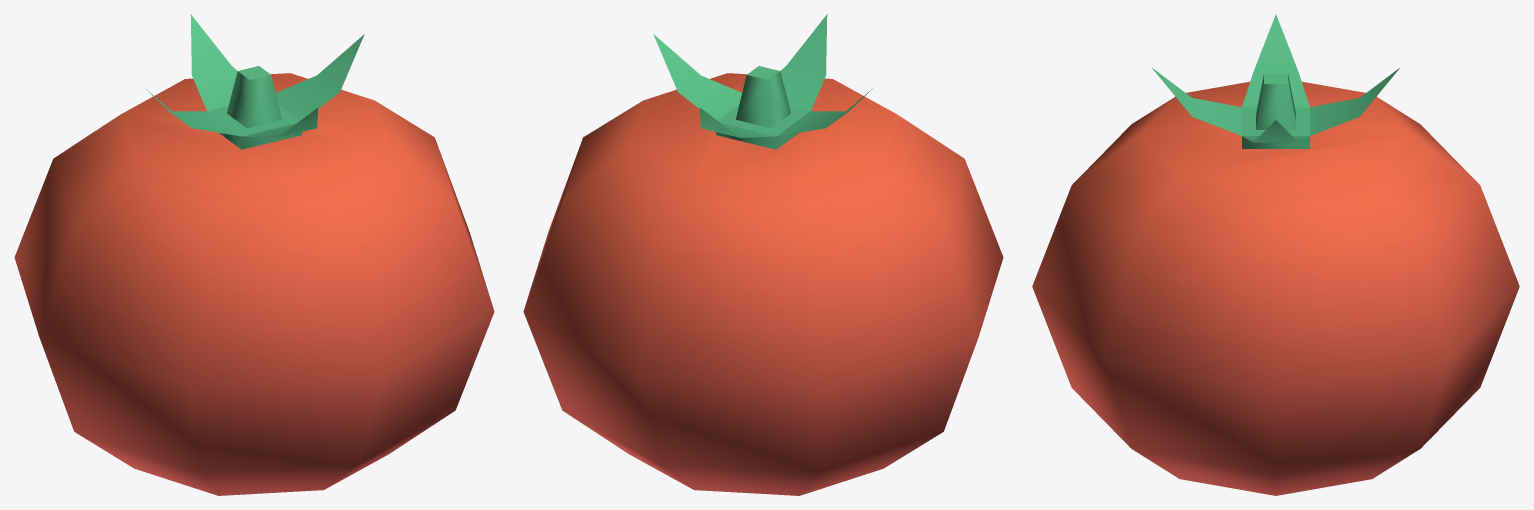
The model's file is tomato-harvest.glb.
3 renders of one model, left to right at view 1: azimuth 30°, elevation 25°; view 2: azimuth 150°, elevation 25°; view 3: azimuth 270°, elevation 25°, orthographic.
Visible parts, largest first — view 1: tomato; view 2: tomato; view 3: tomato.
Boxes of the visible parts, left/top/right/bottom form: tomato: left=14, top=14, right=494, bottom=495; tomato: left=523, top=14, right=1003, bottom=495; tomato: left=1032, top=14, right=1519, bottom=495.
Bounding box in the file's own units: 1 × 0.8407 × 1.
Materials: 1 (1 with a texture image).
